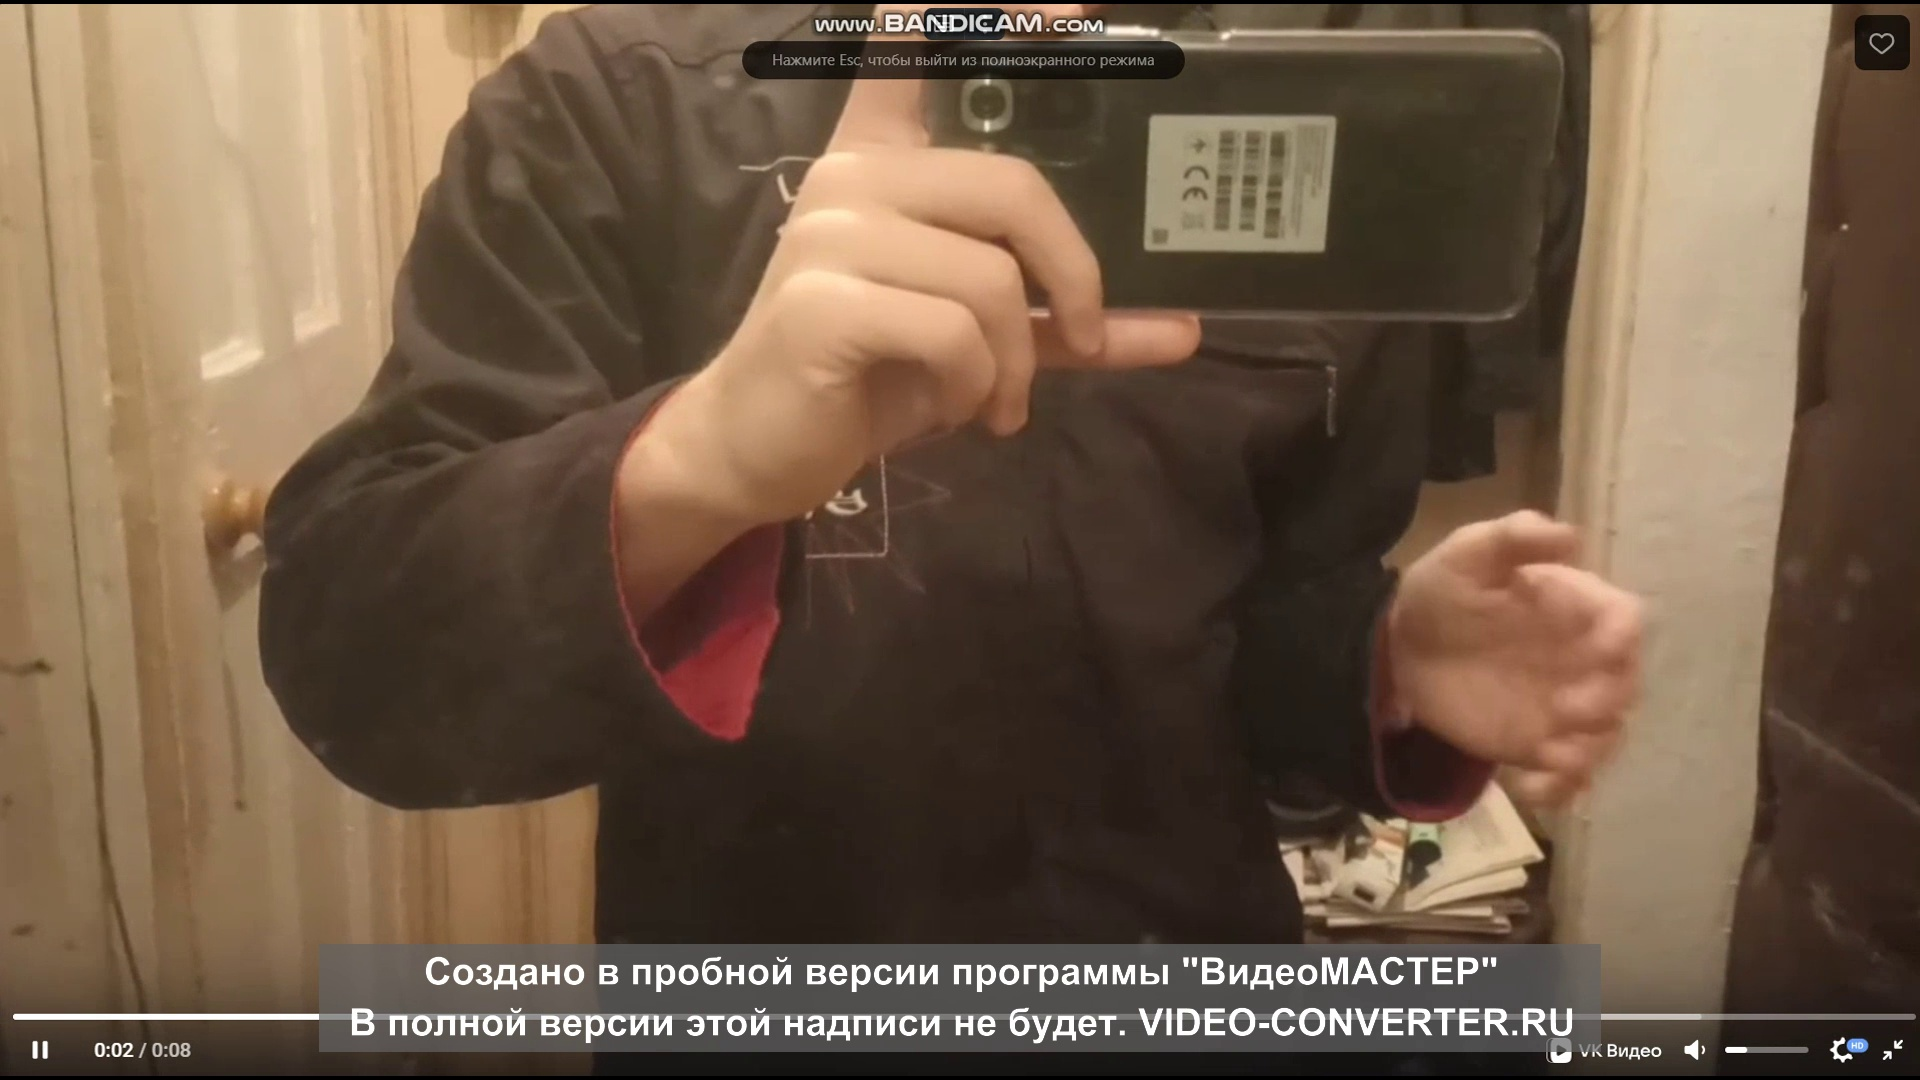Ладонь: (1393, 514, 1658, 807)
